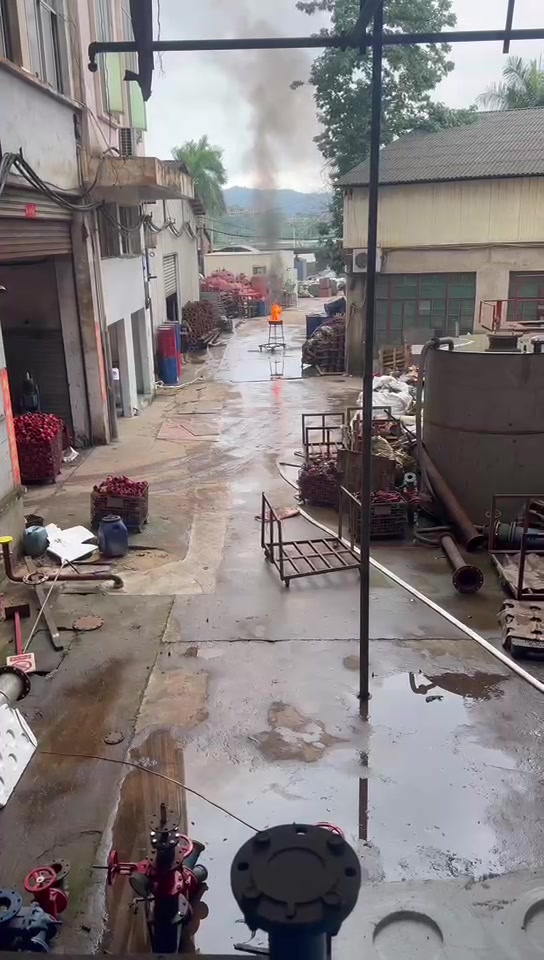fire: (268, 302, 283, 320)
